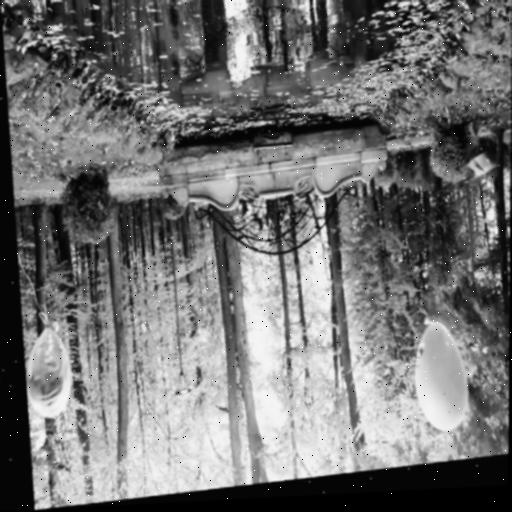balloon: (404, 322, 460, 440), (16, 319, 64, 420)
